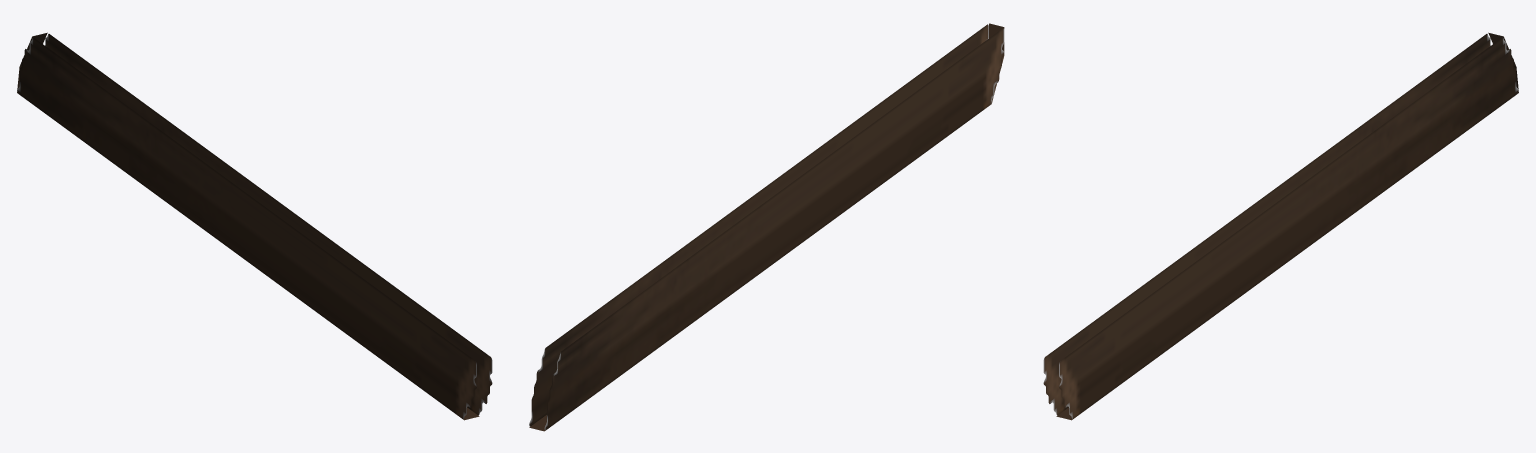
The model's file is pz_native_fixtures_railings_01_33_frame.obj.
The picture shows the model from 3 angles, left to right: view 1: azimuth 30°, elevation 25°; view 2: azimuth 150°, elevation 25°; view 3: azimuth 330°, elevation 25°; orthographic projection.
Parts seen in each view (by area): view 1: pz_native_fixtures_railings_01_33_frame; view 2: pz_native_fixtures_railings_01_33_frame; view 3: pz_native_fixtures_railings_01_33_frame.
Part boxes in pixels (x1,y1,x2,y2): pz_native_fixtures_railings_01_33_frame: (17,32,492,420); pz_native_fixtures_railings_01_33_frame: (529,23,1004,431); pz_native_fixtures_railings_01_33_frame: (1043,32,1518,420).
Bounding box in the file's own units: 0.045 × 0.2188 × 2.35.
1 material, 1 textured.
